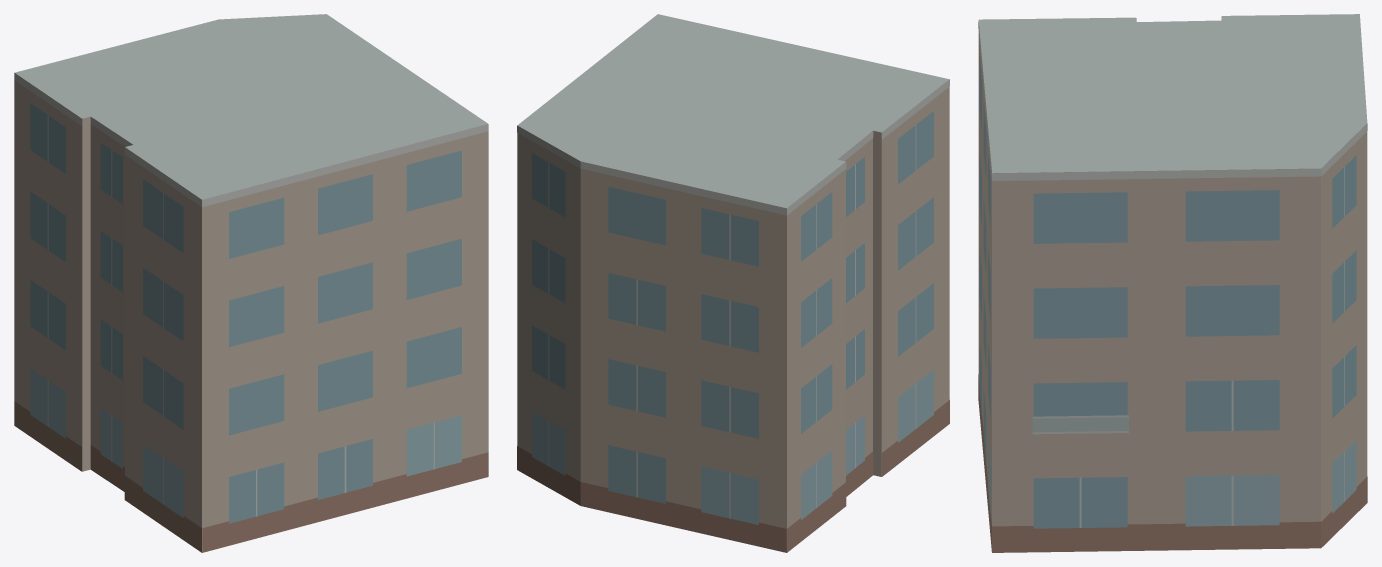
Rendered from survey-upis-32687242.glb.
3 renders of one model, left to right at view 1: azimuth 30°, elevation 25°; view 2: azimuth 150°, elevation 25°; view 3: azimuth 270°, elevation 25°, orthographic. The views are drawn at different scales.
Parts seen in each view (by area): view 1: survey-upis-32687242.tmp; view 2: survey-upis-32687242.tmp; view 3: survey-upis-32687242.tmp.
Boxes of the visible parts, box(x1,y1,x2,y2) form: survey-upis-32687242.tmp: box(14, 14, 488, 552); survey-upis-32687242.tmp: box(517, 14, 949, 552); survey-upis-32687242.tmp: box(978, 14, 1367, 552).
Bounding box in the file's own units: 10.45 × 11.62 × 10.8.
